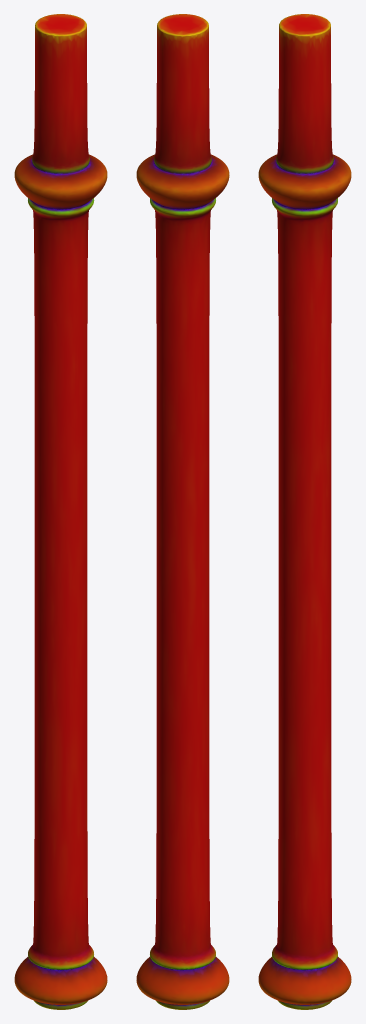
Rendered from Frame.fbx.
The picture shows the model from 3 angles, left to right: view 1: azimuth 30°, elevation 25°; view 2: azimuth 150°, elevation 25°; view 3: azimuth 330°, elevation 25°; orthographic projection.
Visible parts, largest first — view 1: transform1; view 2: transform1; view 3: transform1.
Boxes of the visible parts, bbox=[...] form: transform1: bbox=[14, 14, 107, 1009]; transform1: bbox=[136, 14, 229, 1009]; transform1: bbox=[258, 14, 351, 1009].
Size of the model in its own units: 51.96 by 51.94 by 601.
